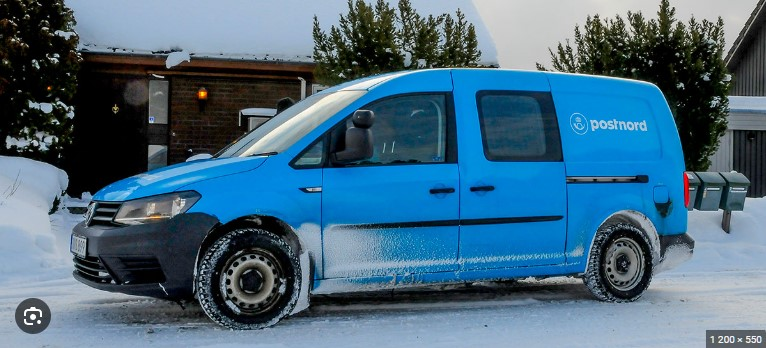postnord: (68, 66, 697, 334)
